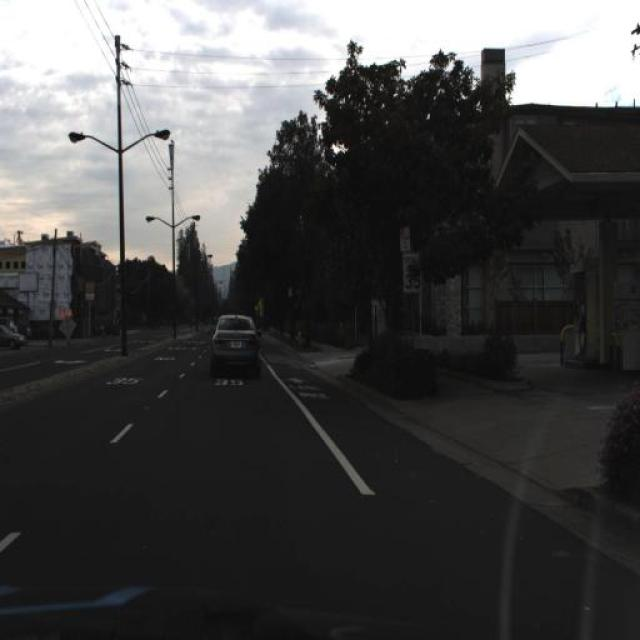car: (204, 310, 262, 381), (5, 312, 34, 362), (0, 320, 29, 355)
